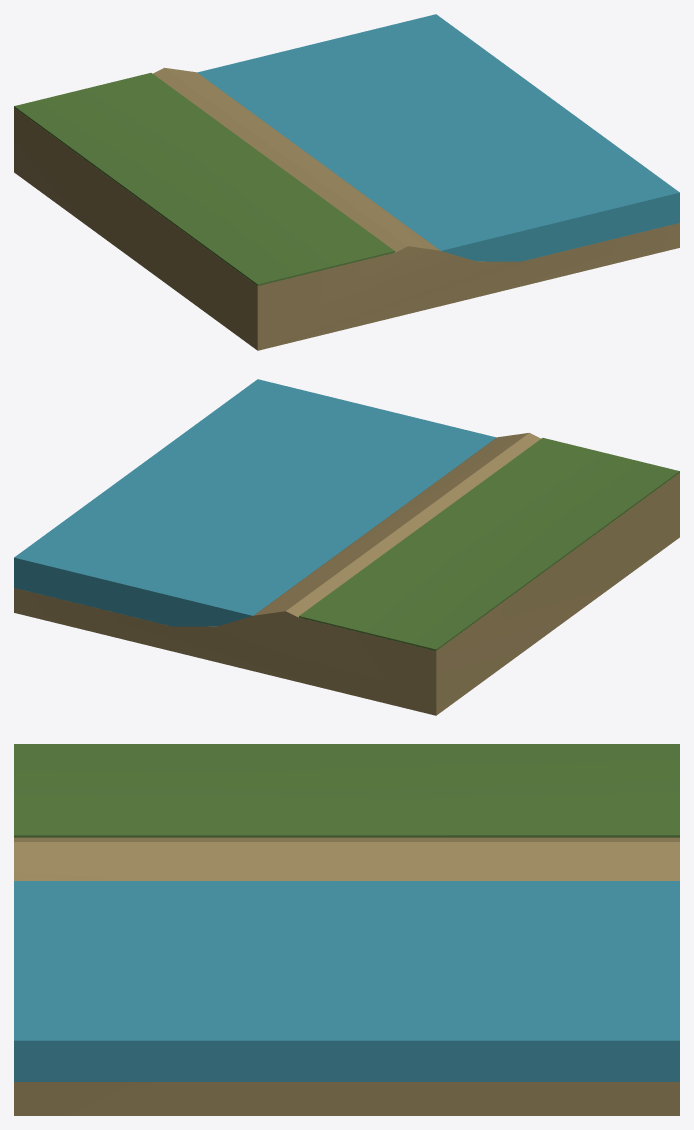
File: Environment_Lakeside_StraightShore8m_001.glb
The picture shows the model from 3 angles, top to bottom: view 1: azimuth 30°, elevation 25°; view 2: azimuth 150°, elevation 25°; view 3: azimuth 270°, elevation 25°; orthographic projection. The views are drawn at different scales.
Visible parts, largest first — view 1: LK_StraightShore8m_Body; view 2: LK_StraightShore8m_Body; view 3: LK_StraightShore8m_Body.
Boxes of the visible parts, x1,y1,x2,y2 form: LK_StraightShore8m_Body: (14, 14, 679, 350); LK_StraightShore8m_Body: (14, 379, 679, 715); LK_StraightShore8m_Body: (14, 744, 679, 1115).
Size of the model in its own units: 8 by 1.23 by 8.
